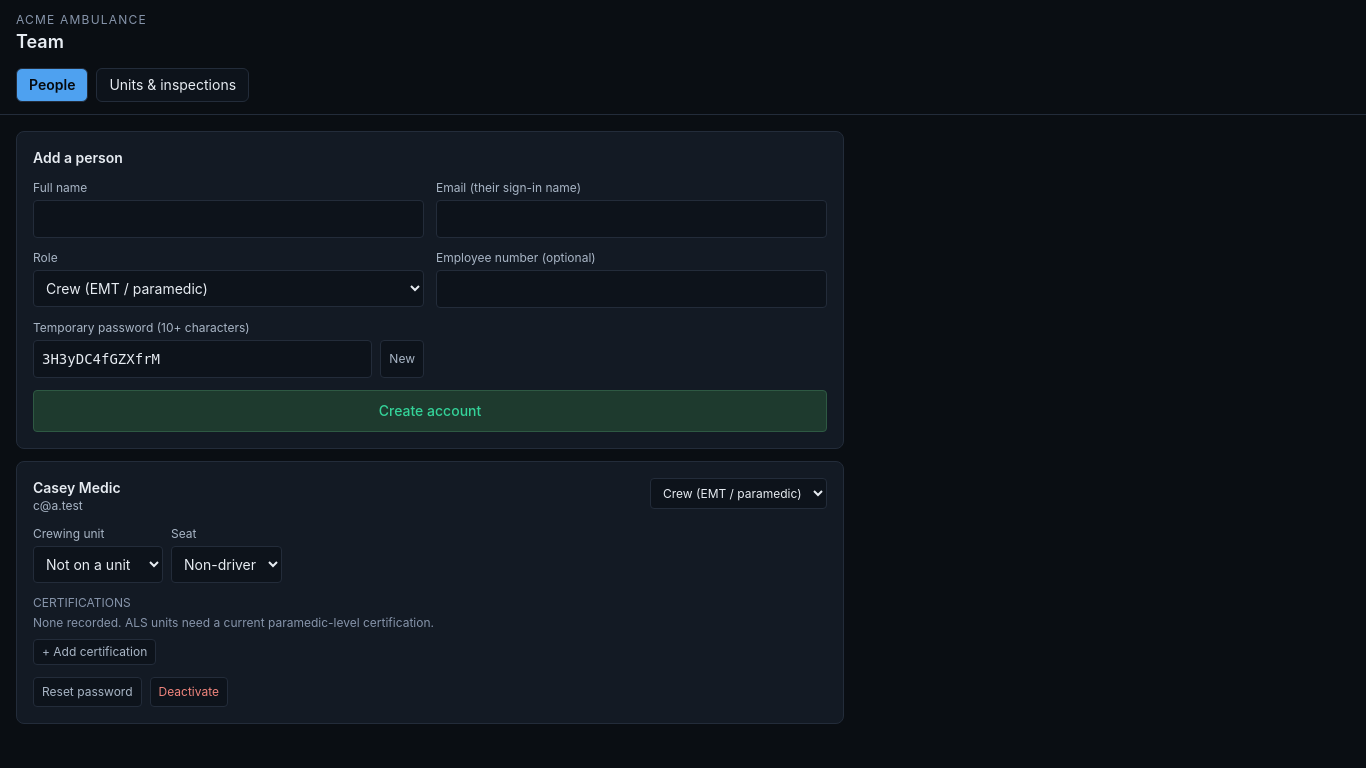
Test case: team admin › shows the server's reason when a unit assignment is refused
Step 1. Select "Medic 1 (ALS)" in the dropdown showing "Not on a unit" → [98, 564], box x1=33 y1=546 x2=163 y2=583
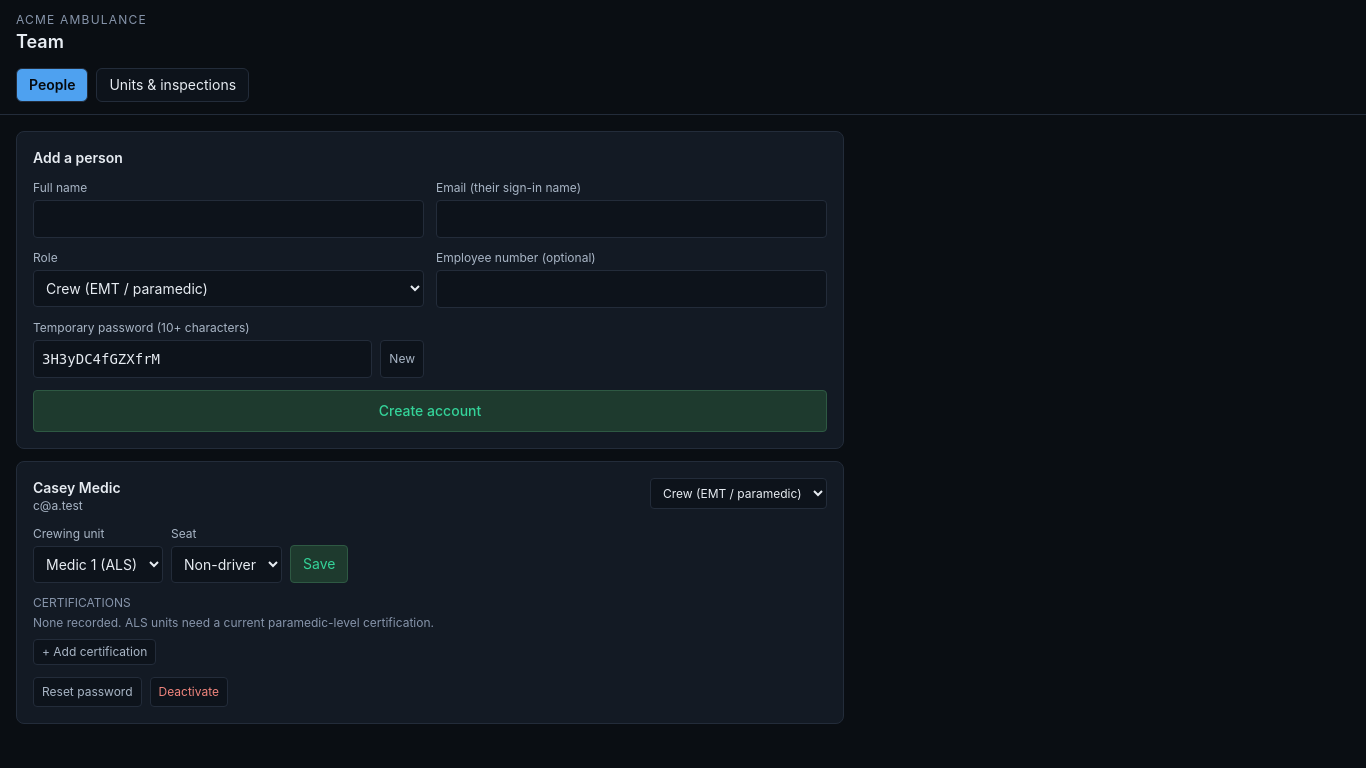
Step 2. Click the button "Save" → [319, 564], box x1=290 y1=545 x2=348 y2=583
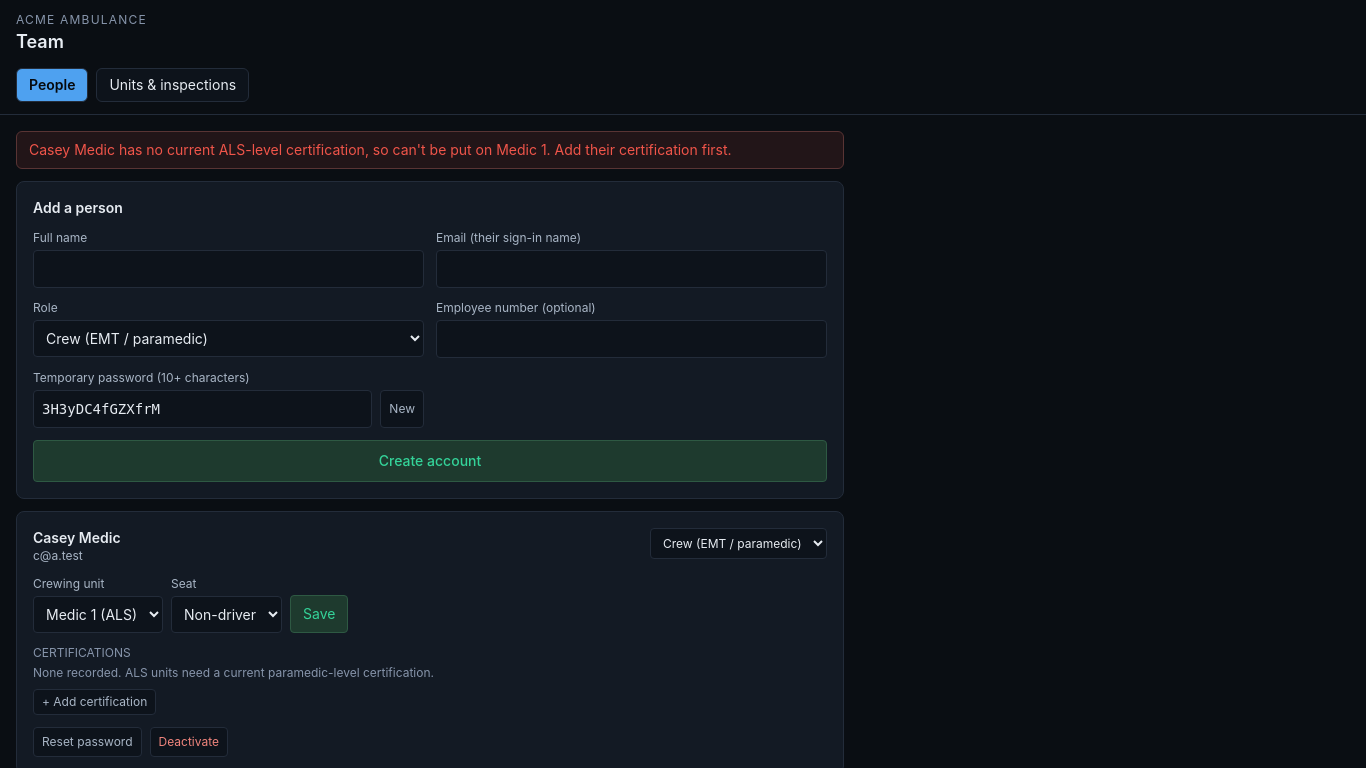
Now the text "no current ALS-level certification" is shown, box x1=29 y1=141 x2=732 y2=158
